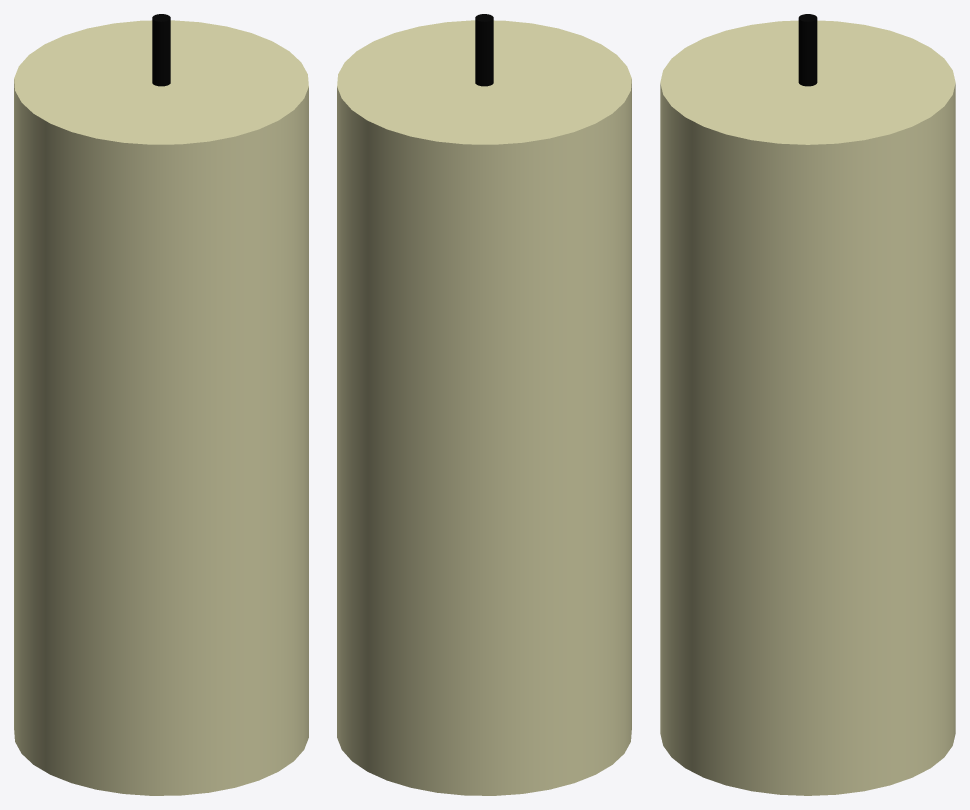
File: bougie.glb
3 views of the same model, side by side, from view 1: azimuth 30°, elevation 25°; view 2: azimuth 150°, elevation 25°; view 3: azimuth 270°, elevation 25° (orthographic).
Visible parts, largest first — view 1: bougie; view 2: bougie; view 3: bougie.
Boxes of the visible parts, left/top/right/bottom form: bougie: left=14, top=14, right=308, bottom=795; bougie: left=337, top=14, right=631, bottom=795; bougie: left=660, top=14, right=955, bottom=795.
Bounding box in the file's own units: 0.1061 × 0.2836 × 0.1061.
